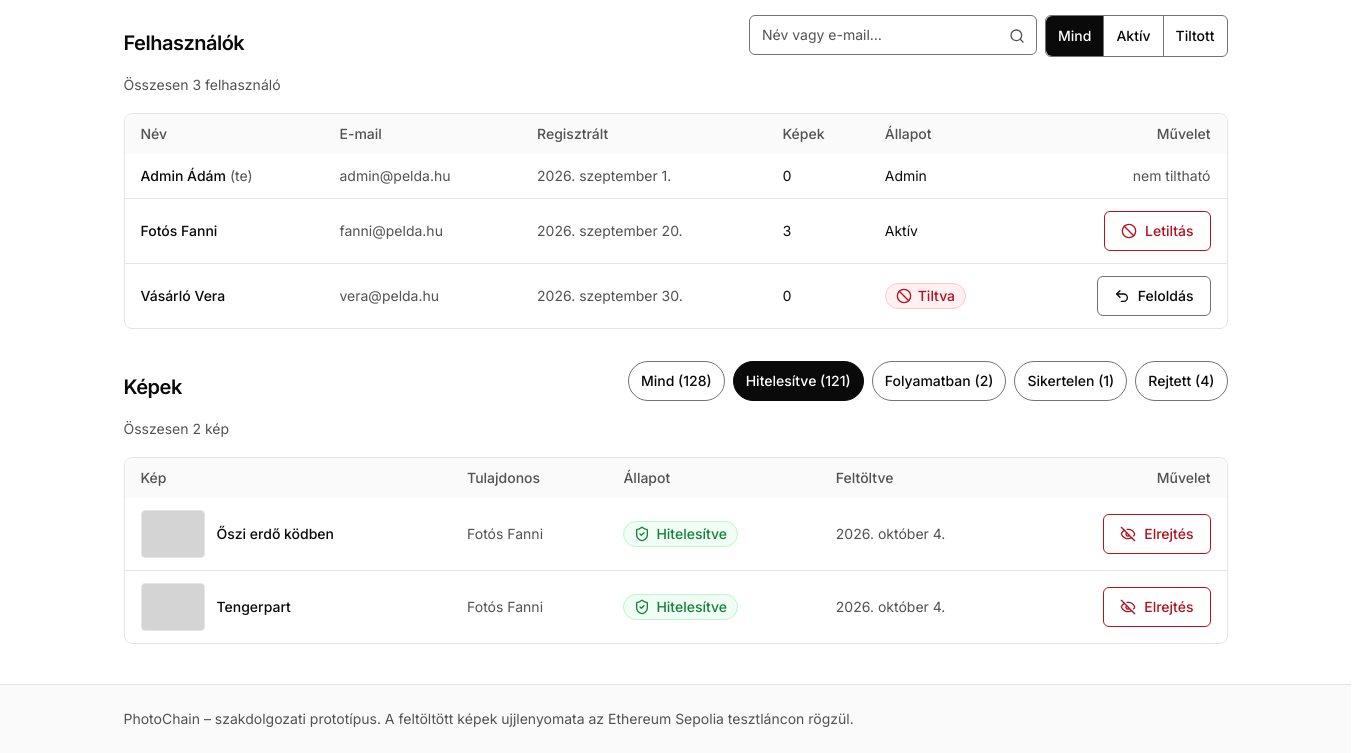
Scenario: AdminPage – képek moderálása és újrapróbálás › szűrt listában (Hitelesítve) az elrejtett kép kikerül a listából: a fókusz a helyére lépő sor címére kerül, a bemondás mondja a kikerülést
(page scrolled)
Check: the text "Összesen 2 kép" is shown, box [124,420,229,437]
Click the button named "Elrejtés: Őszi erdő ködben". click: (1157, 534)
box: [1103,514,1210,554]
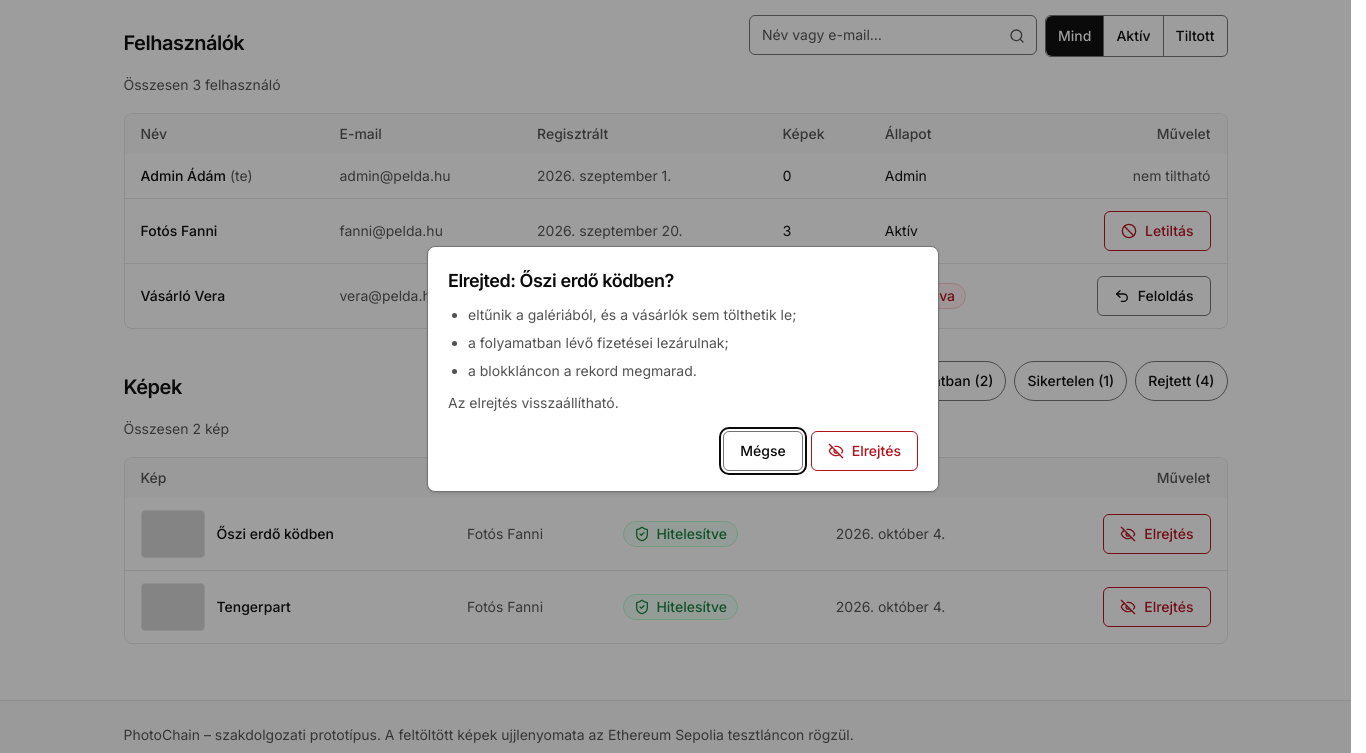
Click the button "Elrejtés". click: (864, 451)
box: [811,431,918,471]
(page scrolled)
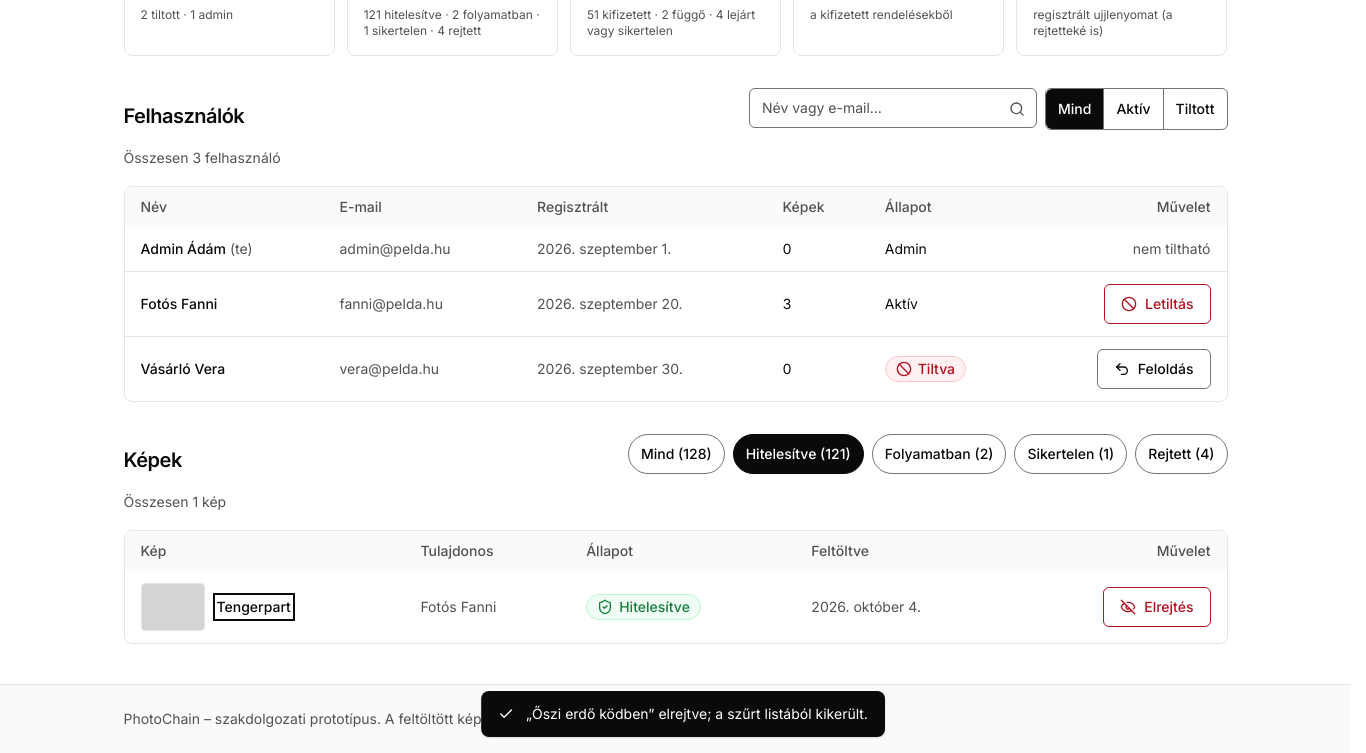
Check: the link "Őszi erdő ködben" is gone
Check: the text "Összesen 1 kép" is shown, box [124,493,226,510]
